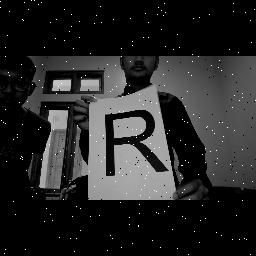r: (100, 107, 172, 181)
